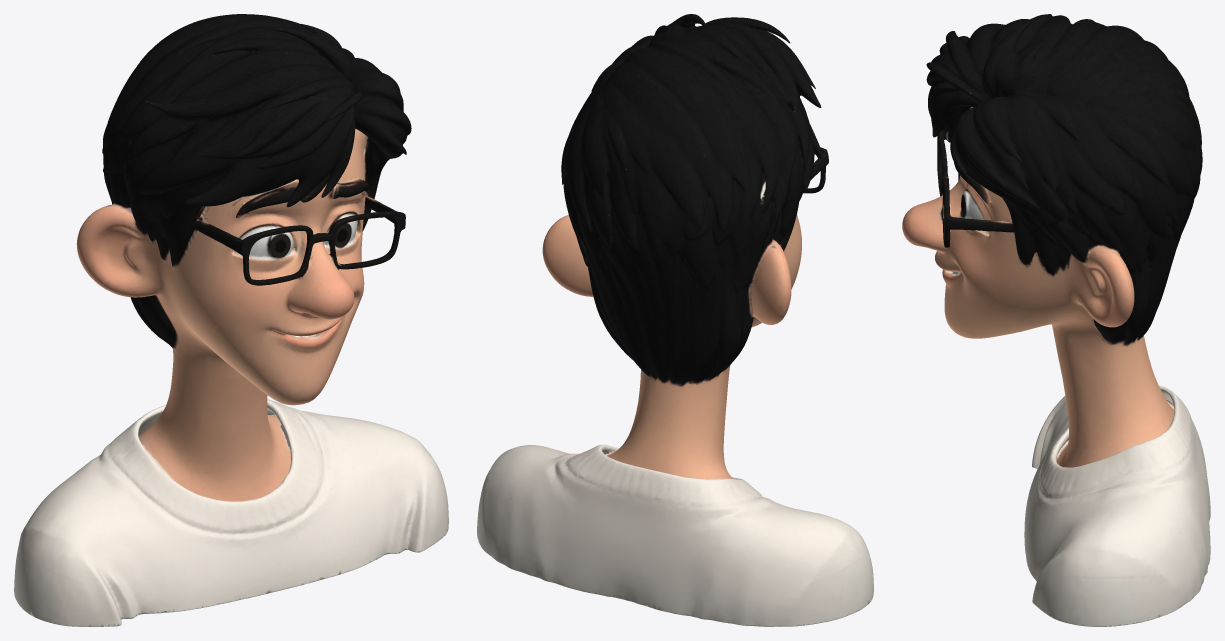
File: hou-textured-v1.glb
The picture shows the model from 3 angles, left to right: view 1: azimuth 30°, elevation 25°; view 2: azimuth 150°, elevation 25°; view 3: azimuth 270°, elevation 25°; orthographic projection. The views are drawn at different scales.
Size of the model in its own units: 1.47 by 1.9 by 1.03.
Materials: 1 (1 with a texture image).
